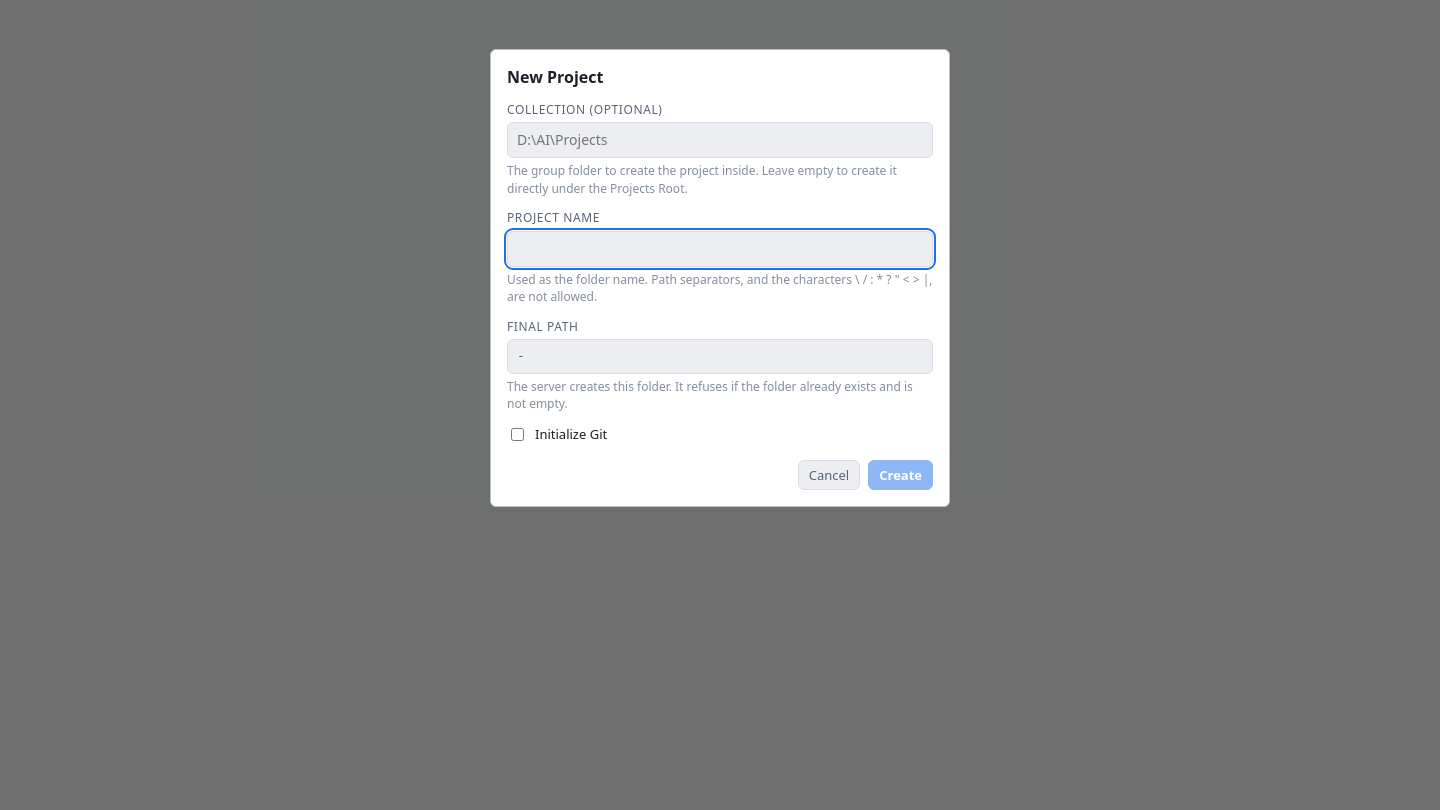
it: NewProjectDialog › shows the path it is about to create, so the name alone is not the whole story
Expected: the text "-" is shown, 507,339 -> 933,374
Step 1. Type "NewApp" into the field labelled "Project name" → (720, 249), box 507,231 -> 933,267
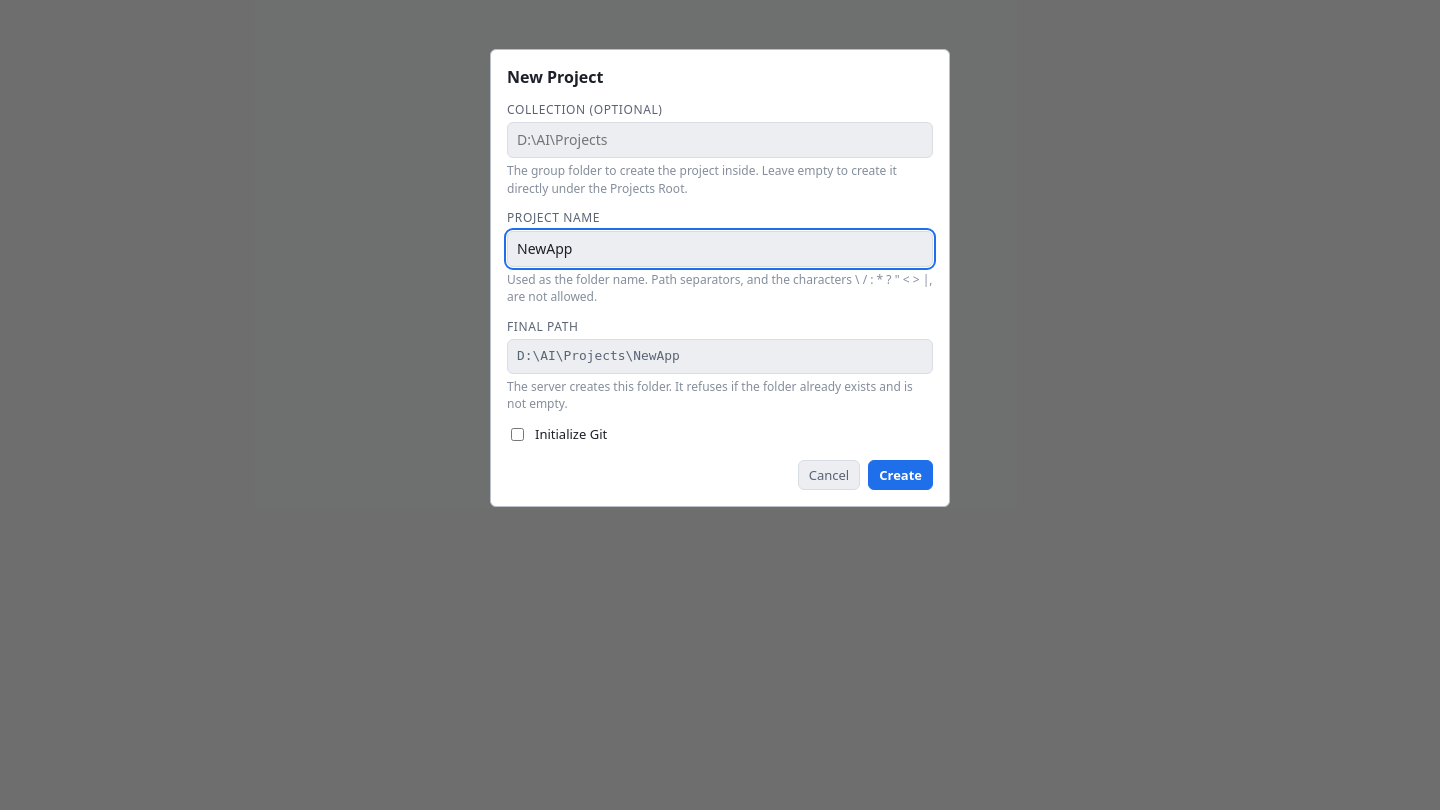
Result: the text "D:\\AI\\Projects\\NewApp" is shown at 507,339 -> 933,374
Step 2. Type "D:\\AI\\Projects\\2026 Group" into the field labelled "Collection" → (720, 140), box 507,122 -> 933,158
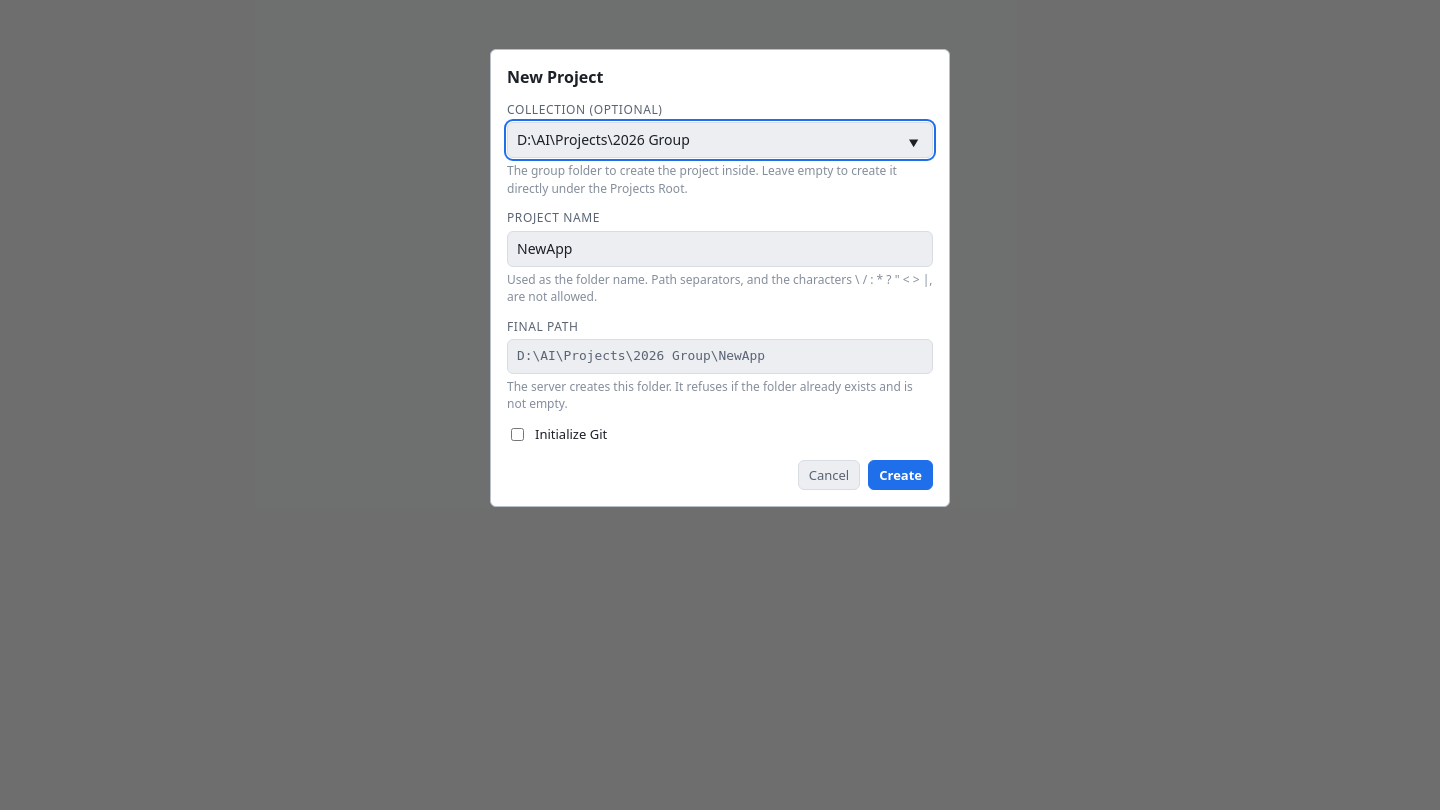
Result: the text "D:\\AI\\Projects\\2026 Group\\NewApp" is shown at 507,339 -> 933,374
